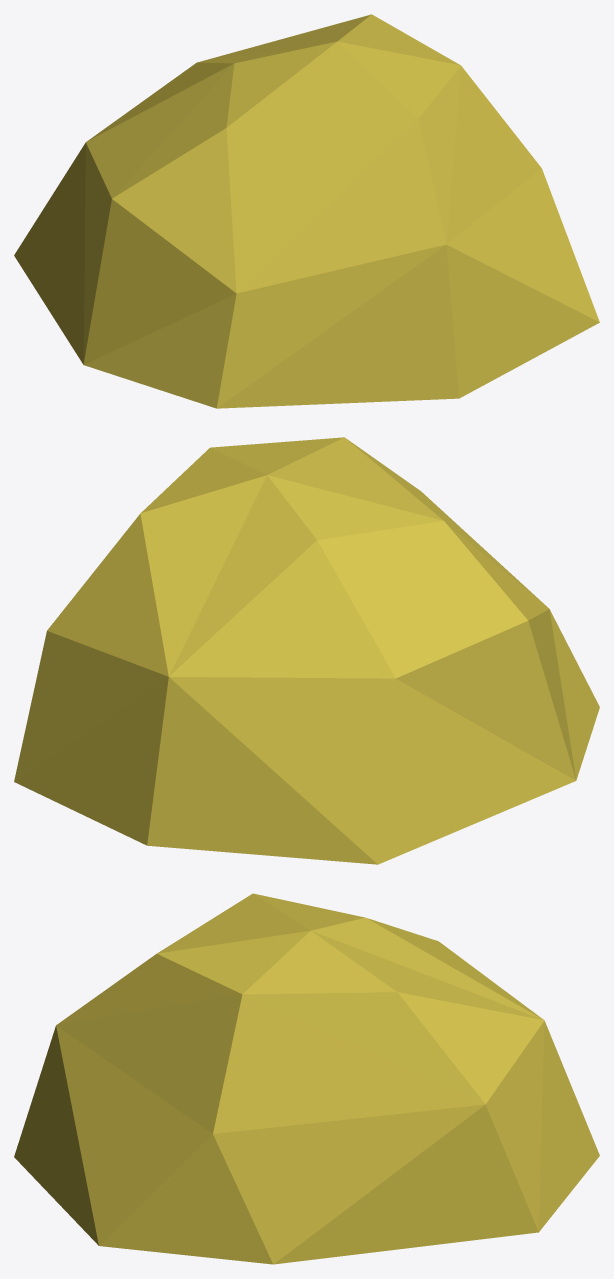
The model's file is hay_2.fbx.
3 views of the same model, one above another, from view 1: azimuth 30°, elevation 25°; view 2: azimuth 150°, elevation 25°; view 3: azimuth 270°, elevation 25° (orthographic). The views are drawn at different scales.
Parts seen in each view (by area): view 1: hay_2; view 2: hay_2; view 3: hay_2.
Part boxes in pixels (<box>): hay_2: <box>14,14,599,408</box>; hay_2: <box>14,437,599,864</box>; hay_2: <box>14,893,599,1264</box>.
Bounding box in the file's own units: 204 × 100 × 222.
